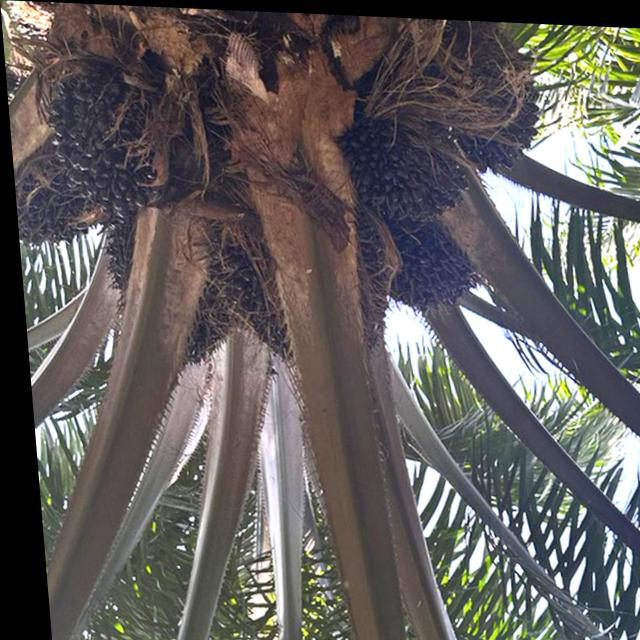unripe: (199, 191, 402, 371), (363, 210, 485, 316)
